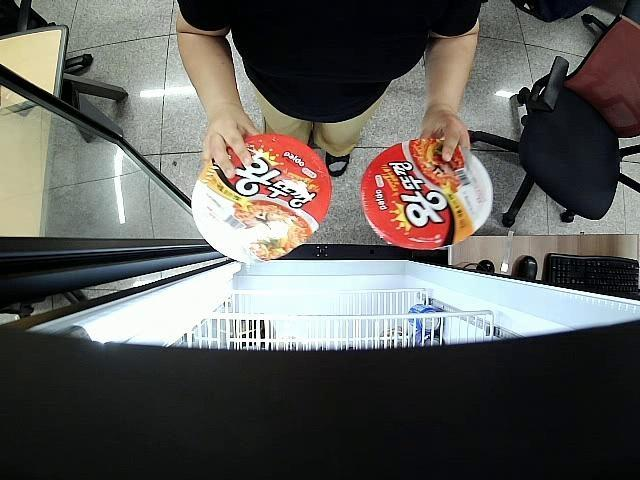10_wangTtukkeong: (192, 132, 330, 264), (362, 138, 492, 248)
